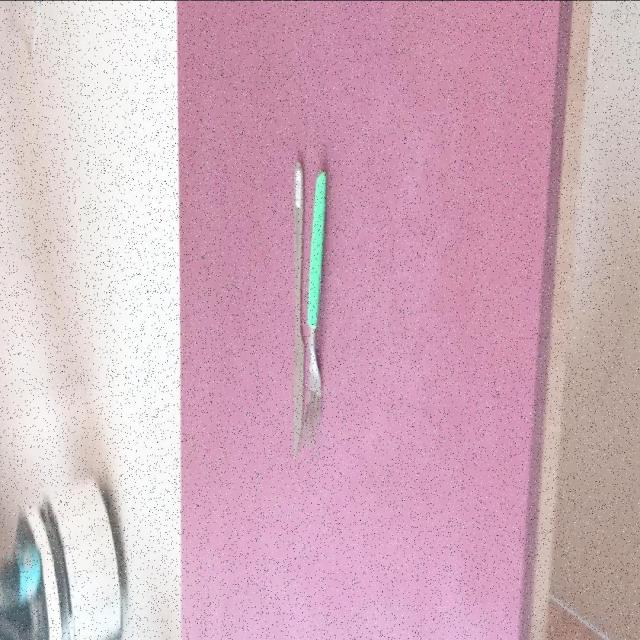Fork: (305, 169, 327, 425)
Knife: (291, 161, 305, 462)
